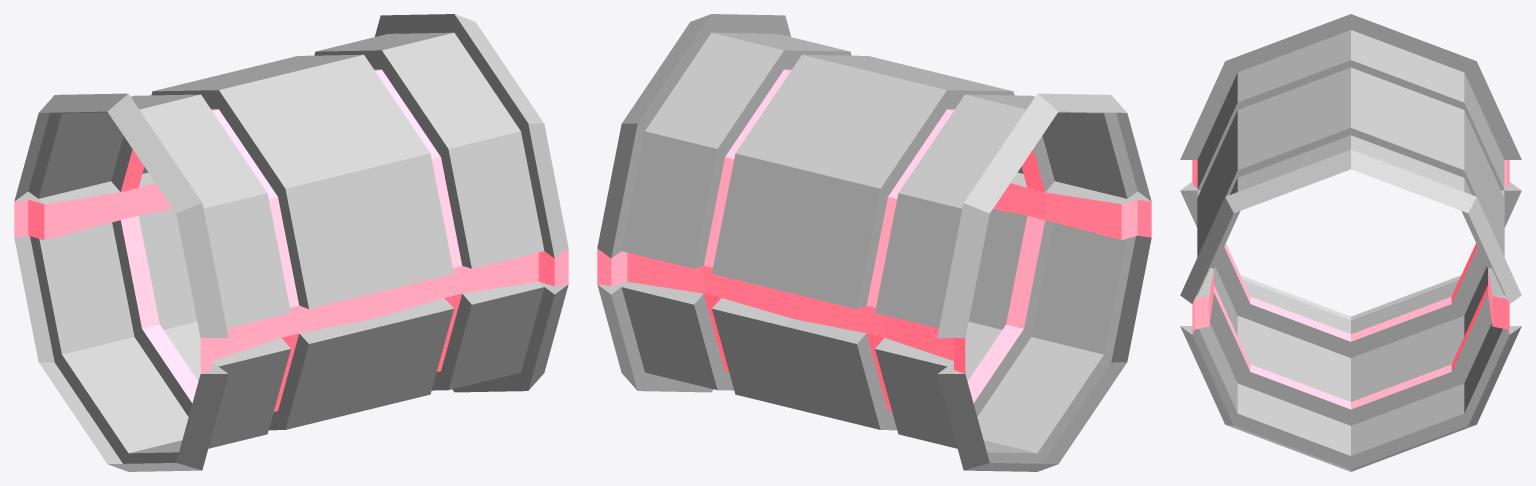
File: VeryBadNeck.fbx
3 renders of one model, left to right at view 1: azimuth 30°, elevation 25°; view 2: azimuth 150°, elevation 25°; view 3: azimuth 270°, elevation 25°, orthographic. The views are drawn at different scales.
Visible parts, largest first — view 1: Cylinder; view 2: Cylinder; view 3: Cylinder.
Boxes of the visible parts, x1,y1,x2,y2 form: Cylinder: (14, 14, 568, 471); Cylinder: (597, 14, 1151, 471); Cylinder: (1180, 14, 1521, 471).
Bounding box in the file's own units: 76.52 × 75.16 × 72.2.
